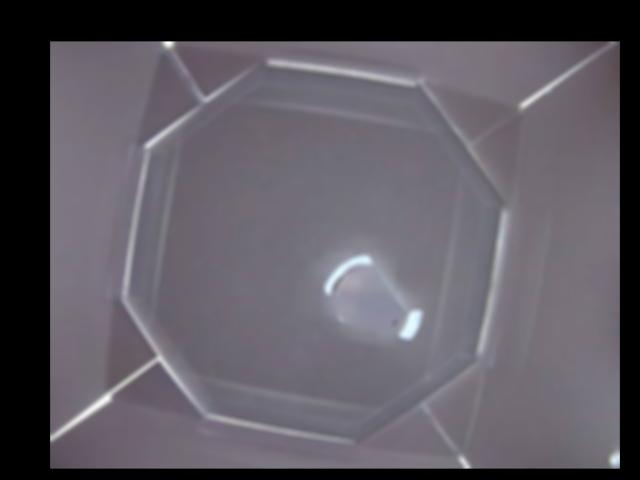China: (326, 254, 424, 341)
